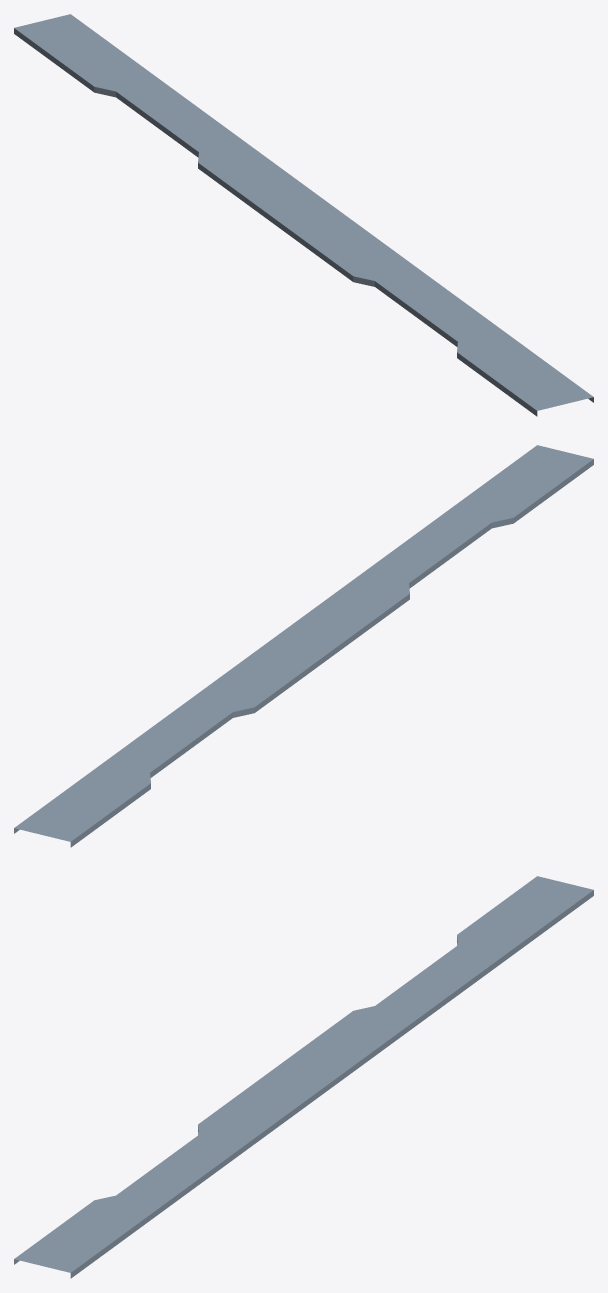
The model's file is RoadSideStraight.fbx.
3 views of the same model, one above another, from view 1: azimuth 30°, elevation 25°; view 2: azimuth 150°, elevation 25°; view 3: azimuth 330°, elevation 25° (orthographic).
Visible parts, largest first — view 1: RoadSideStraight_LOD0; view 2: RoadSideStraight_LOD0; view 3: RoadSideStraight_LOD0.
Boxes of the visible parts, x1,y1,x2,y2 form: RoadSideStraight_LOD0: (14,14,593,416); RoadSideStraight_LOD0: (14,445,593,847); RoadSideStraight_LOD0: (14,876,593,1278).
Size of what is drawn, in the model's own units: 100 by 10 by 1600.
